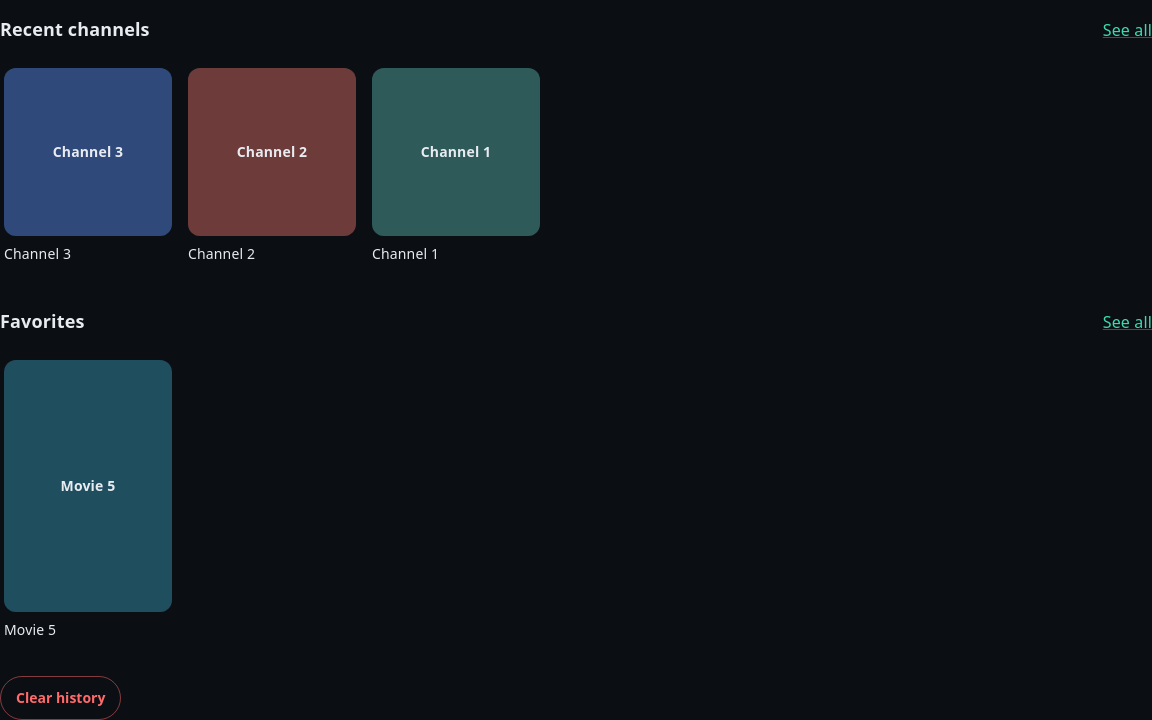
Test: Home — clear history (FAV-02 AC3) › asks first; confirming removes recents and progress but keeps favorites
The width and height of the screenshot is (1152, 720).
(page scrolled)
Click the button "Clear history" at (61, 698), box top-left (0, 676), bottom-right (121, 719)
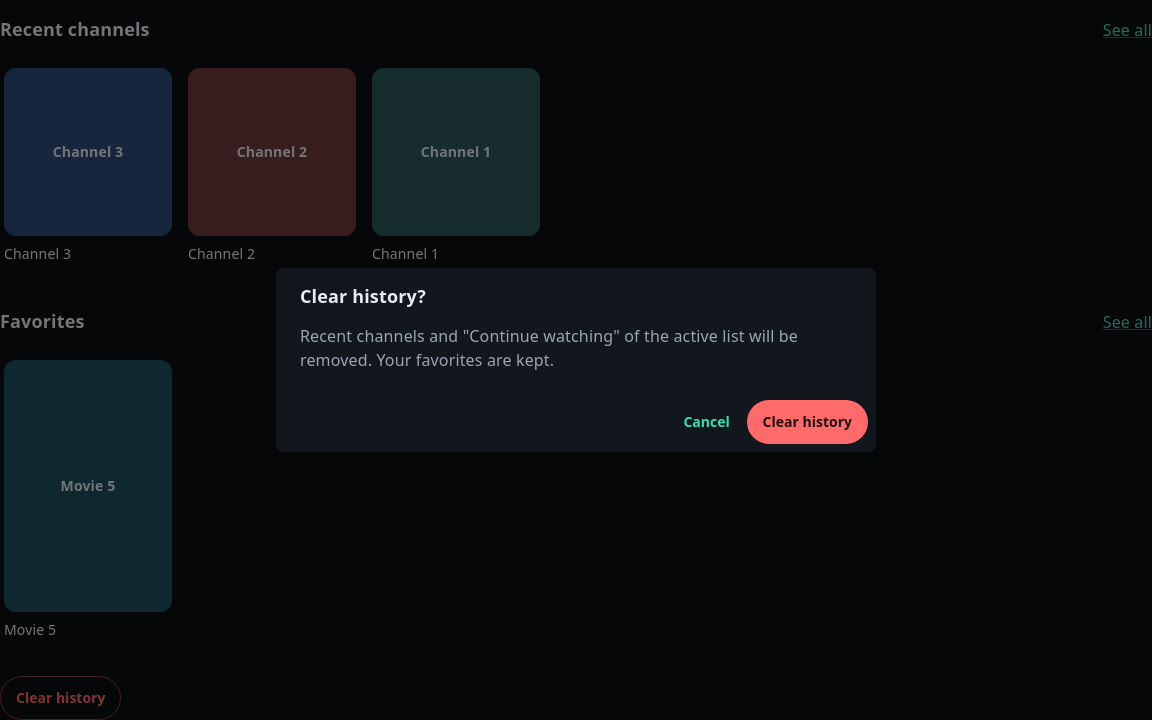
Check: the dialog "Clear history?" shows "Your favorites are kept.", box top-left (300, 325), bottom-right (798, 371)
Click the button "Cancel" at (707, 422), box top-left (675, 400), bottom-right (739, 444)
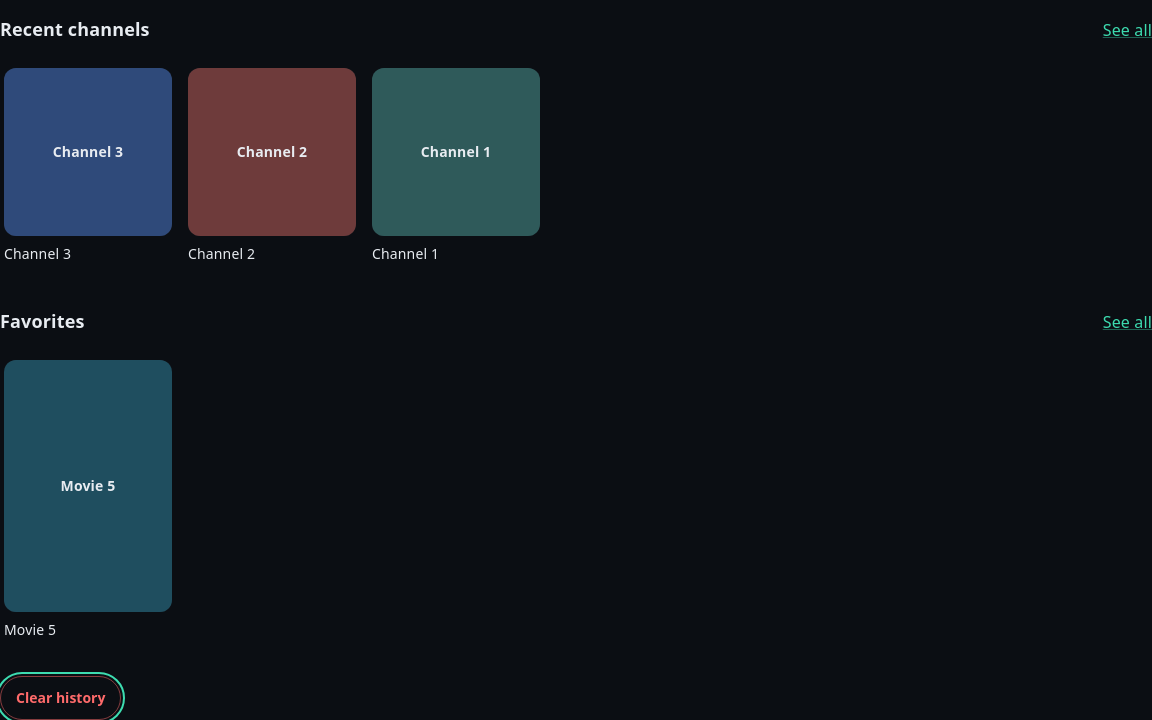
Check: the dialog is gone
Click the button "Clear history" at (61, 698), box top-left (0, 676), bottom-right (121, 719)
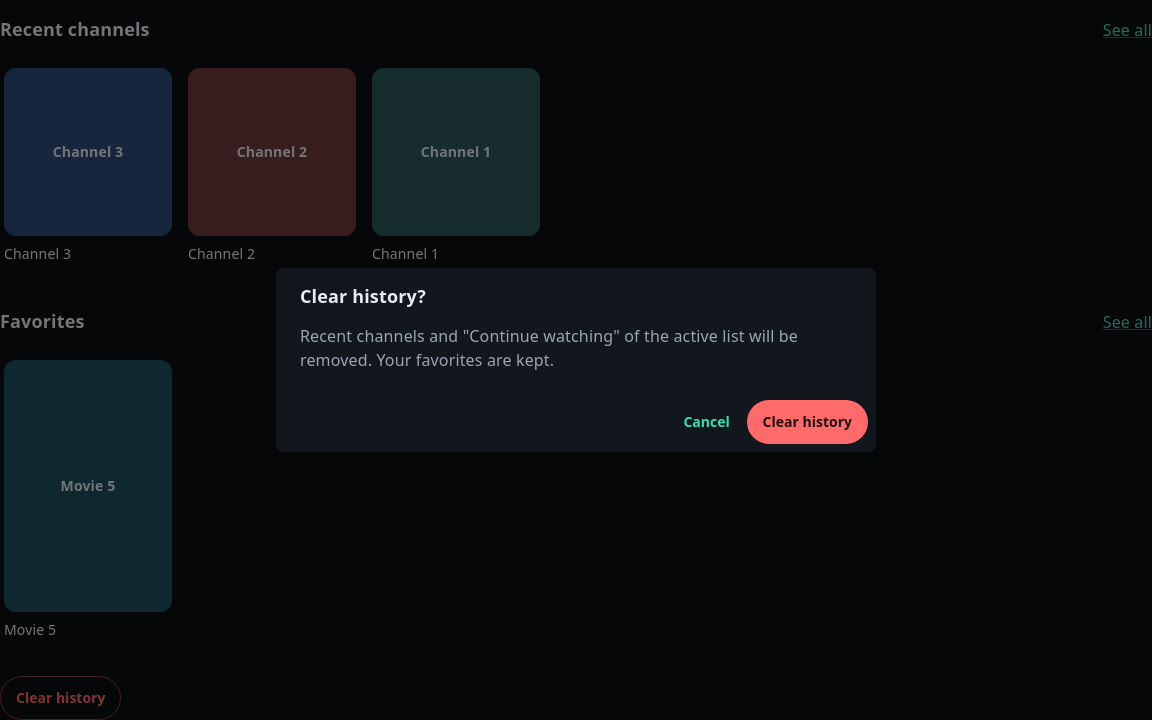
Click the button "Clear history" at (807, 422), box top-left (747, 400), bottom-right (868, 444)
(page scrolled)
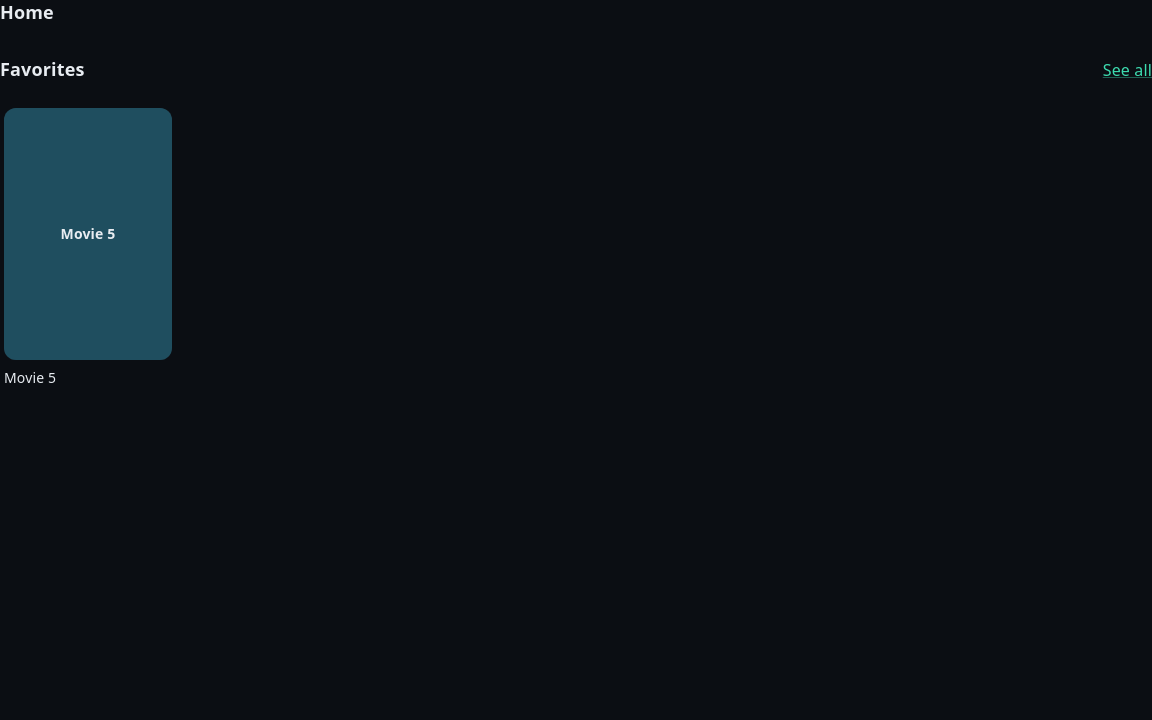
Check: the button "Clear history" is gone
